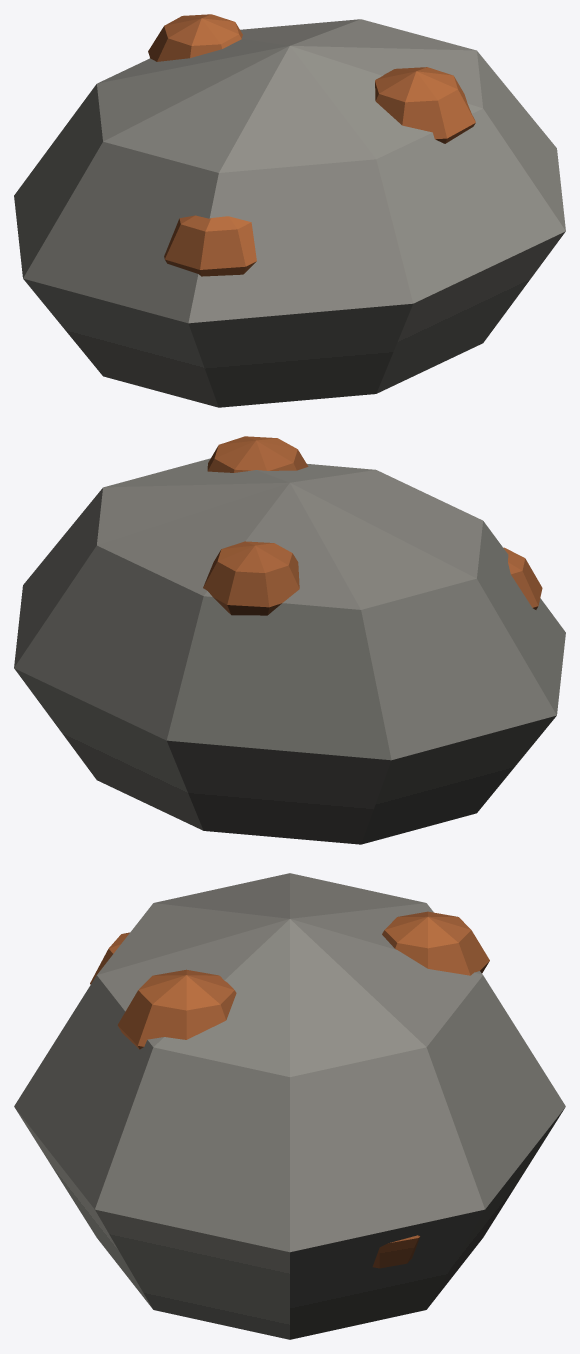
File: ore.glb
3 views of the same model, one above another, from view 1: azimuth 30°, elevation 25°; view 2: azimuth 150°, elevation 25°; view 3: azimuth 270°, elevation 25° (orthographic). The views are drawn at different scales.
Bounding box in the file's own units: 1 × 0.6 × 0.8.
Materials: 1 (1 with a texture image).
